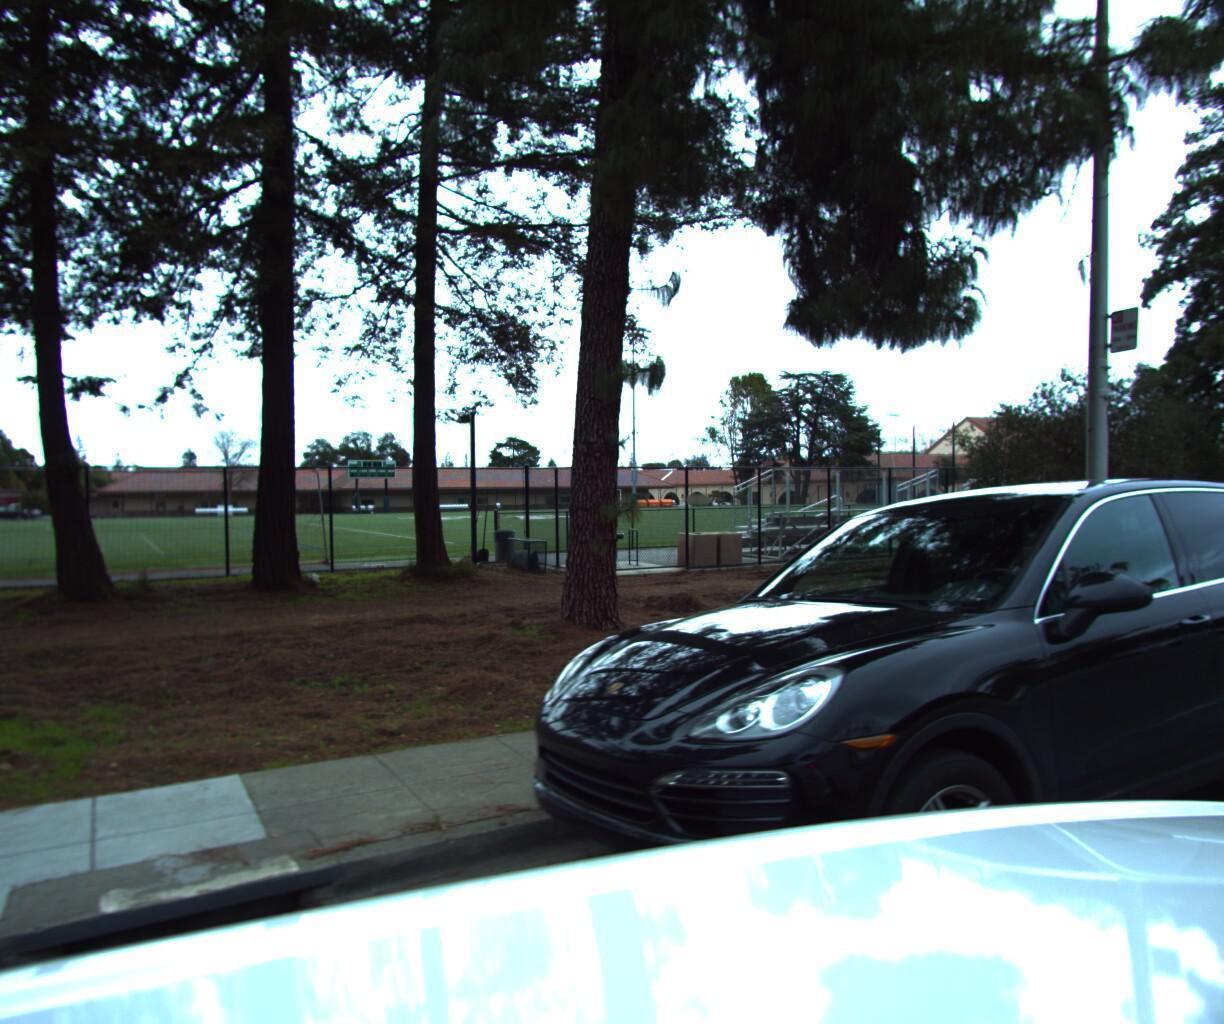car: (471, 449, 1224, 1024)
